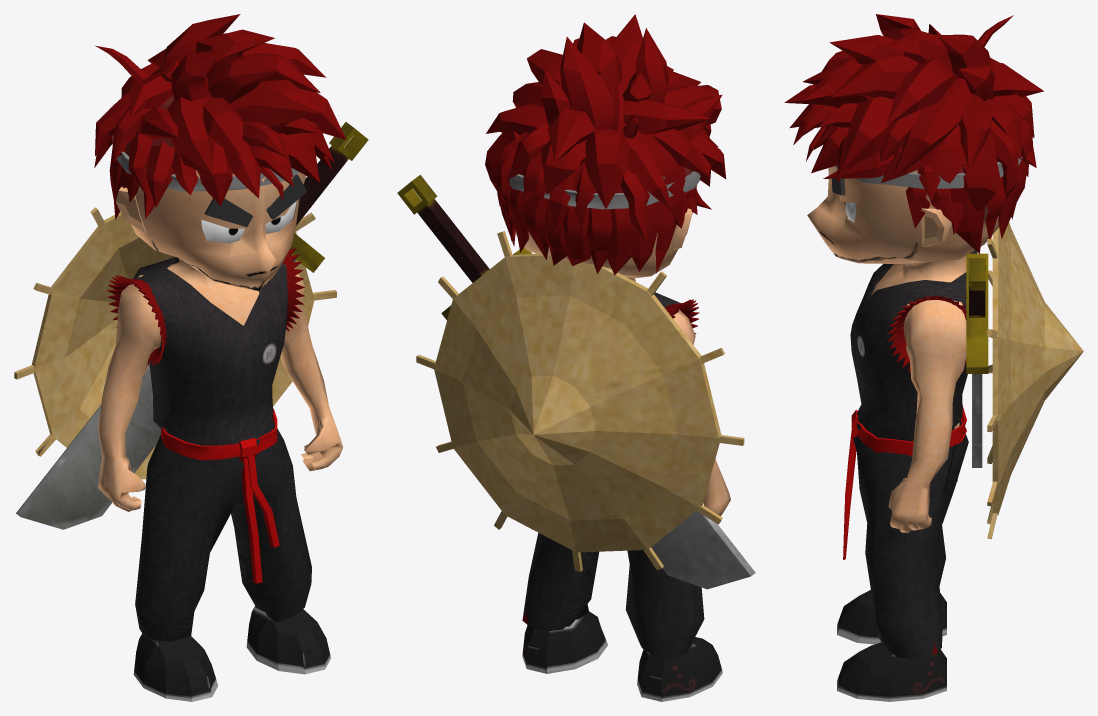
3 renders of one model, left to right at view 1: azimuth 30°, elevation 25°; view 2: azimuth 150°, elevation 25°; view 3: azimuth 270°, elevation 25°, orthographic.
Size of the model in its own units: 61.82 by 107 by 45.62.
Materials: 1 (1 with a texture image).
